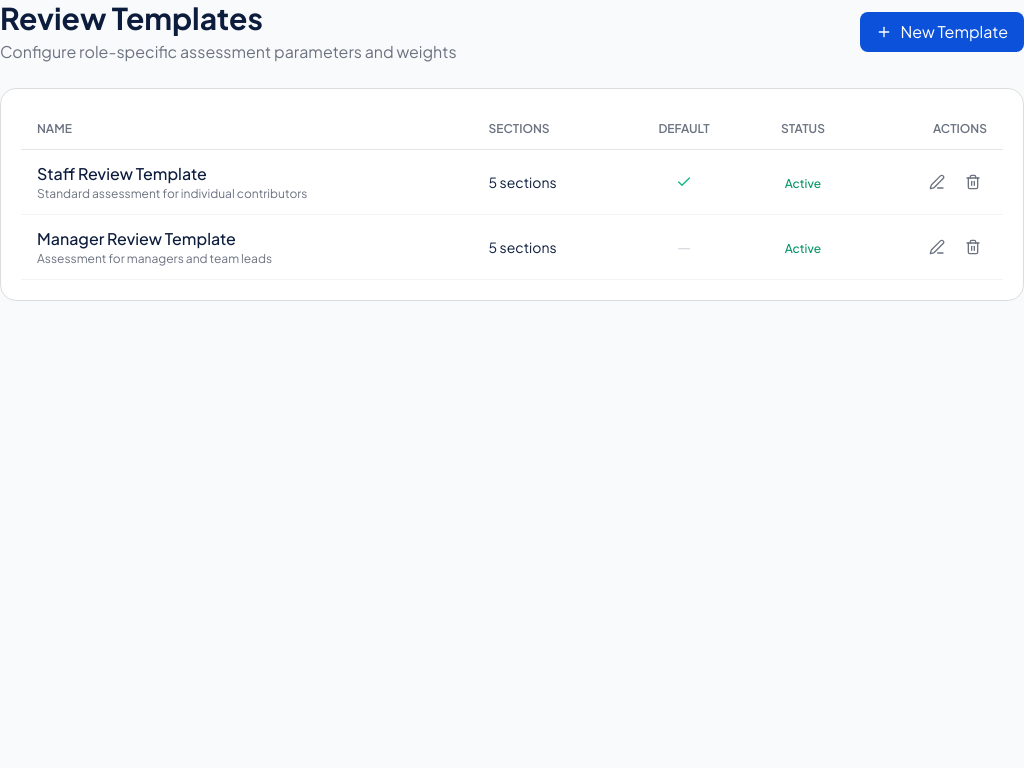
it: TemplateManagement smoke › opens edit modal on edit button click
Click the button named "Edit template" in the row of "Staff Review Template" at (937, 182), box [923,168,951,196]
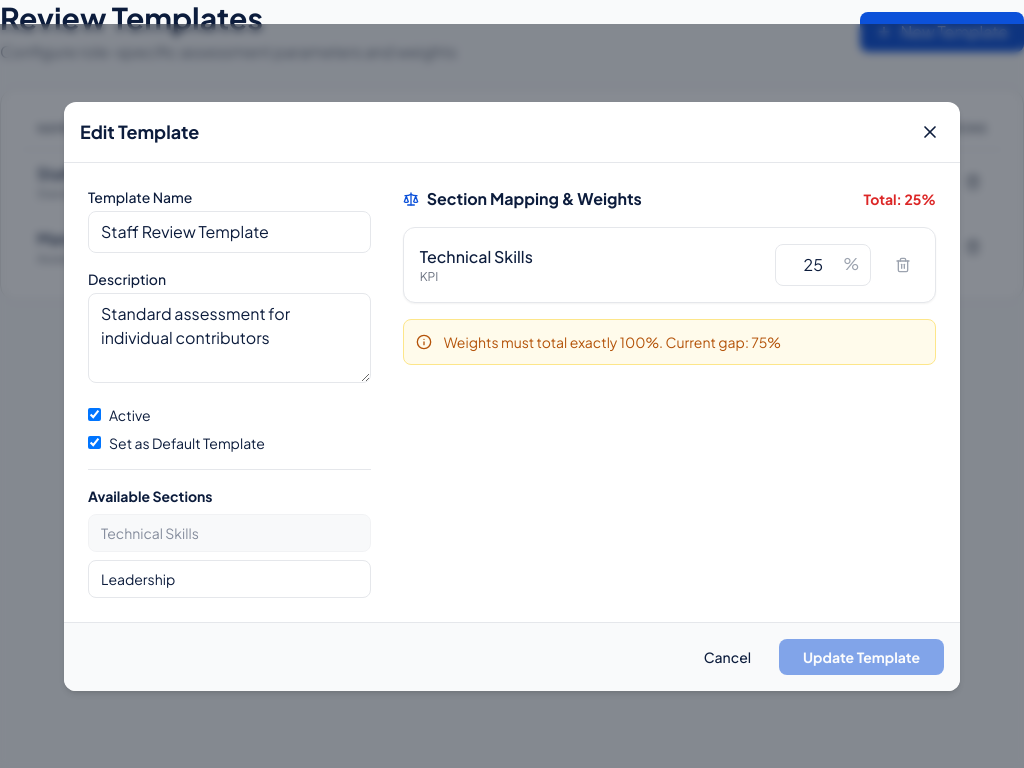
Now the text "Edit Template" is shown, box [80,118,199,146]
